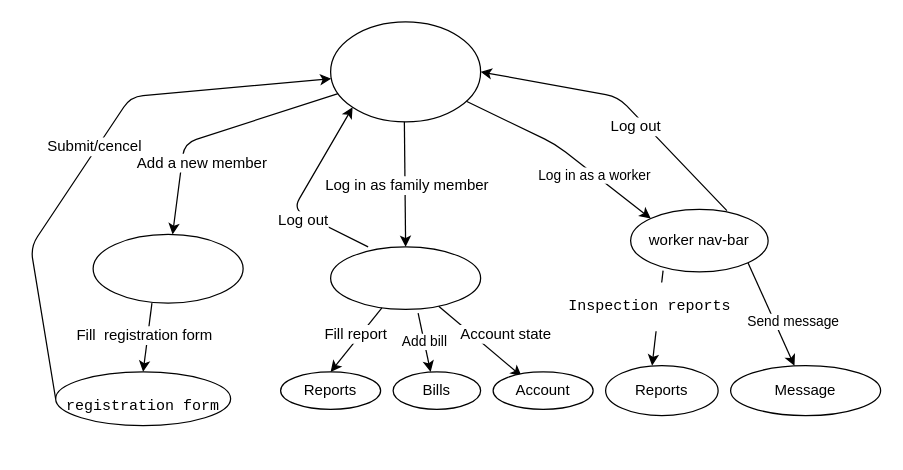
Image size: 903x470. Some labels were removed from this diagram. The centre of each missing label's shape, as x and y in pixels:
"Family nav-bar" goes at (x=405, y=277).
"Home page" goes at (x=405, y=71).
"Sign in" goes at (x=167, y=268).
